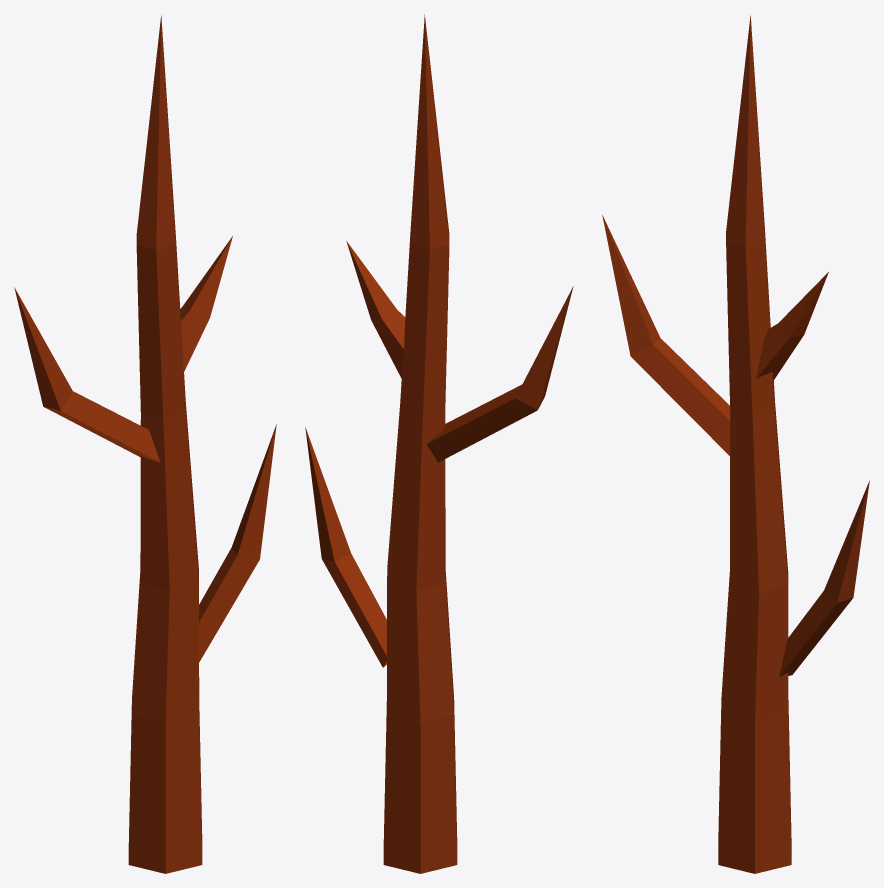
Rendered from tree_3.fbx.
The picture shows the model from 3 angles, left to right: view 1: azimuth 30°, elevation 25°; view 2: azimuth 150°, elevation 25°; view 3: azimuth 330°, elevation 25°; orthographic projection.
Visible parts, largest first — view 1: tree_3; view 2: tree_3; view 3: tree_3.
Part boxes in pixels (x1=…): tree_3: x1=14, y1=15, x2=276, y2=873; tree_3: x1=305, y1=14, x2=573, y2=873; tree_3: x1=602, y1=15, x2=869, y2=873.
Bounding box in the file's own units: 340 × 1030 × 81.63.
